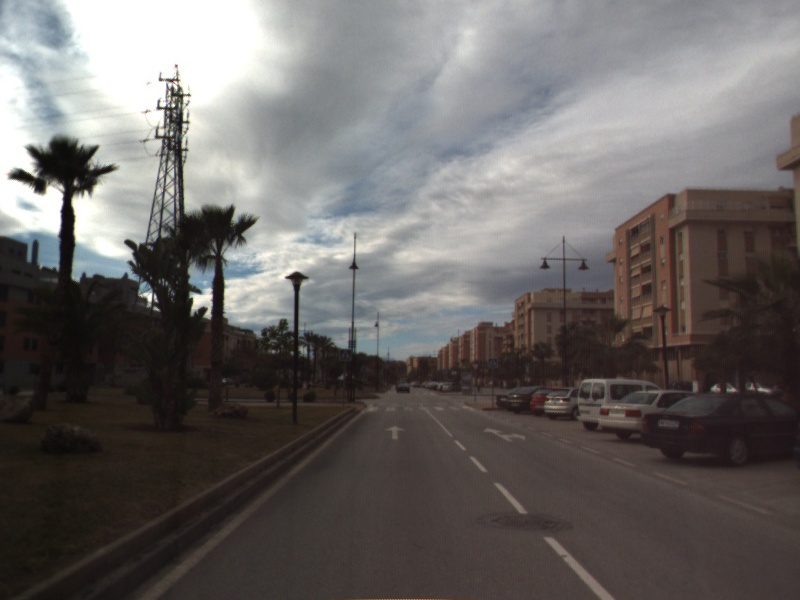STRAIGHT: (383, 423, 408, 441)
STRAIGHT_RIGHT: (481, 426, 527, 443)
